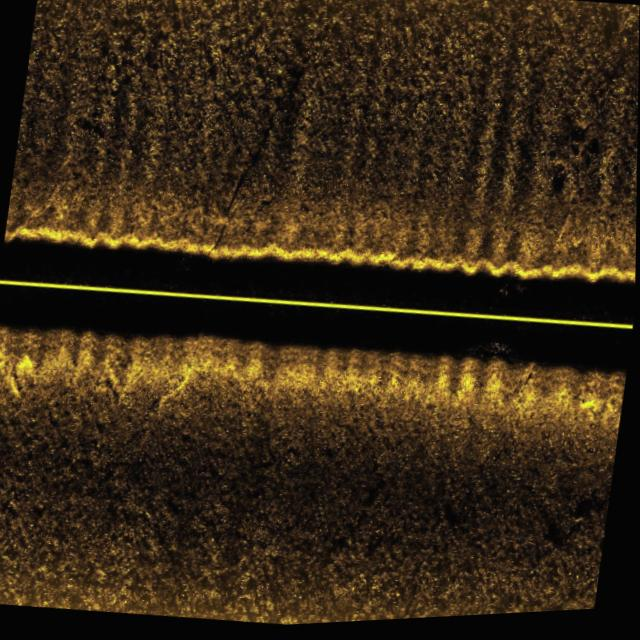mine: (574, 521, 586, 541)
